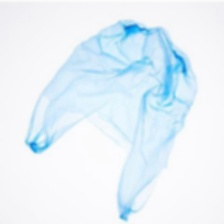plastic_bag: (19, 16, 205, 223)
